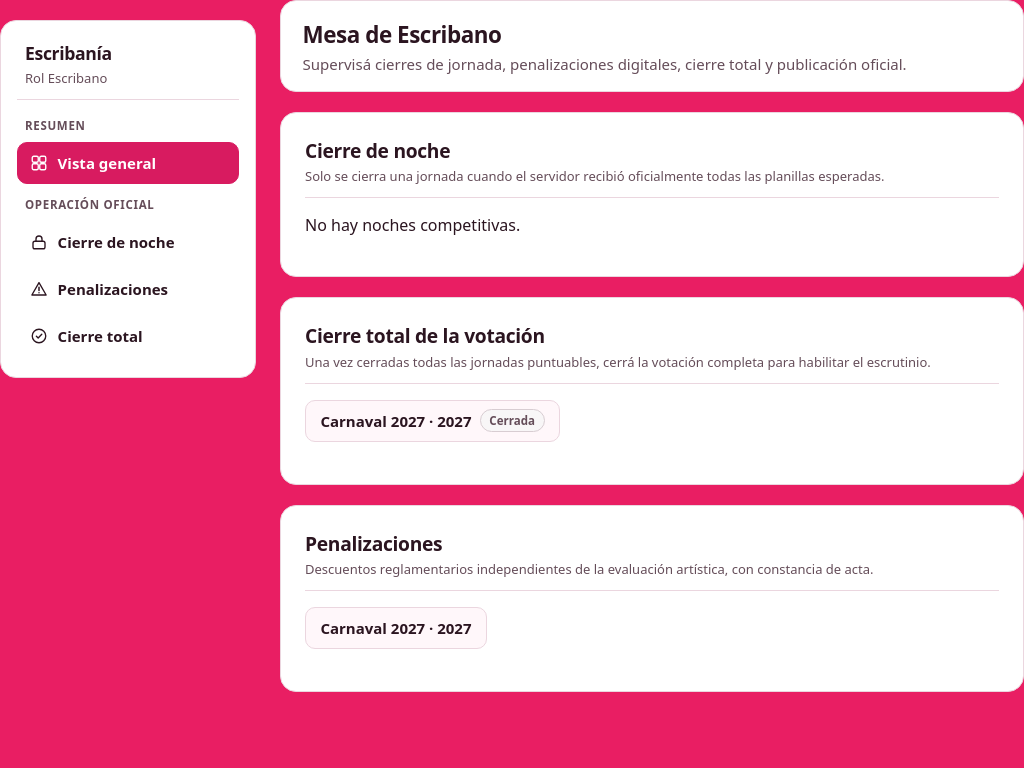
penalizaciones switches to read-only when the edition is CLOSED
Click the button "Carnaval 2027 · 2027" at (396, 628), box [305, 607, 487, 649]
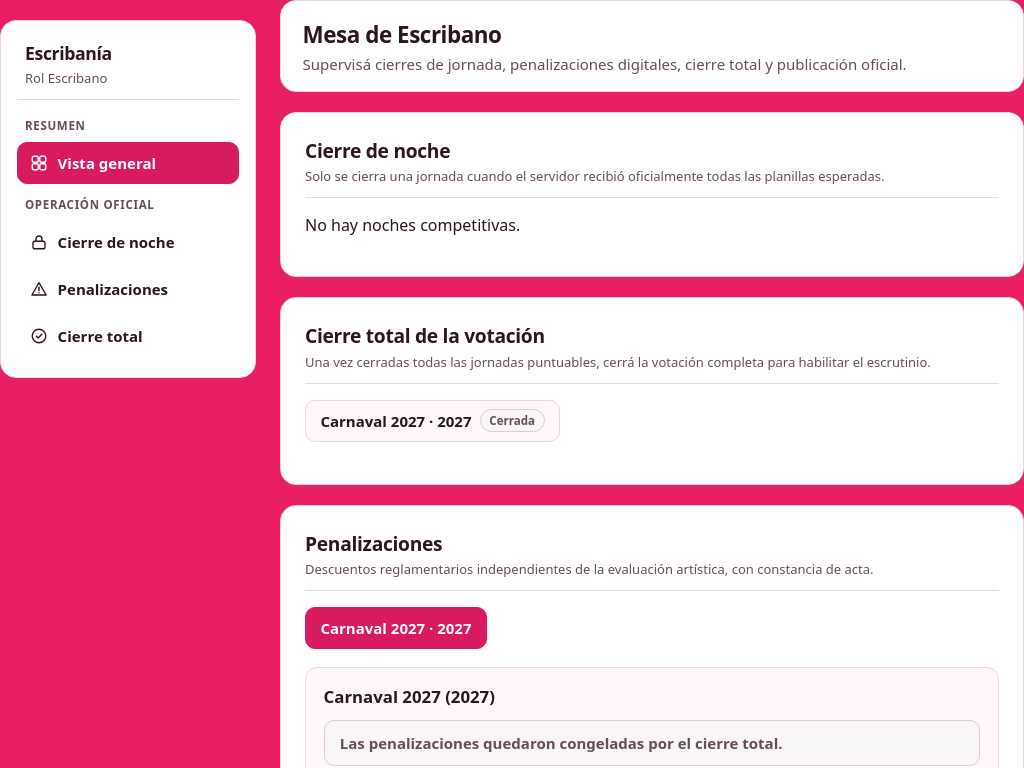
Result: the text "Las penalizaciones quedaron congeladas por el cierre total." is shown at [324, 720, 980, 766]
